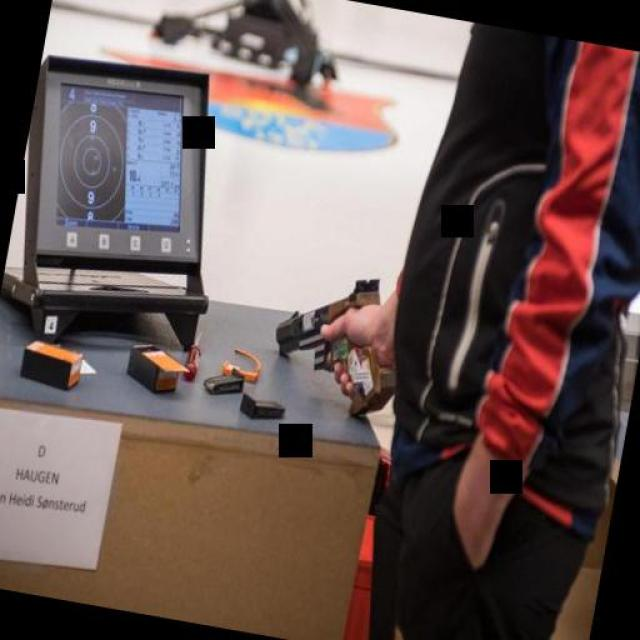gun: (261, 259, 414, 426)
